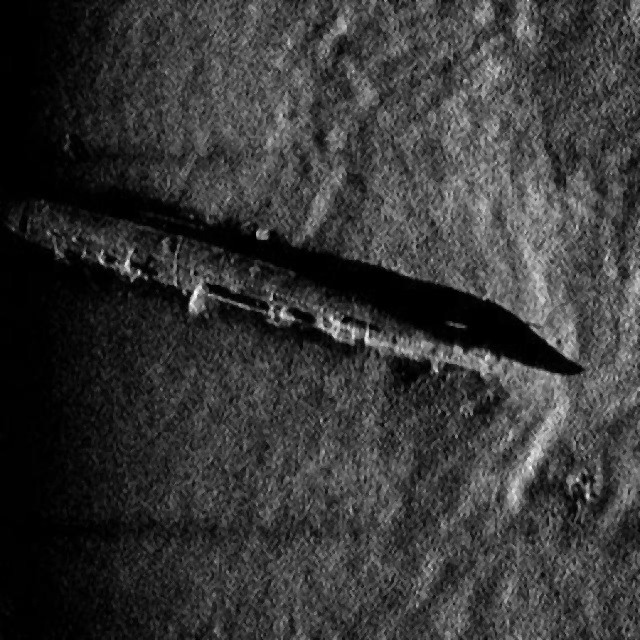Ship: (4, 170, 602, 414)
